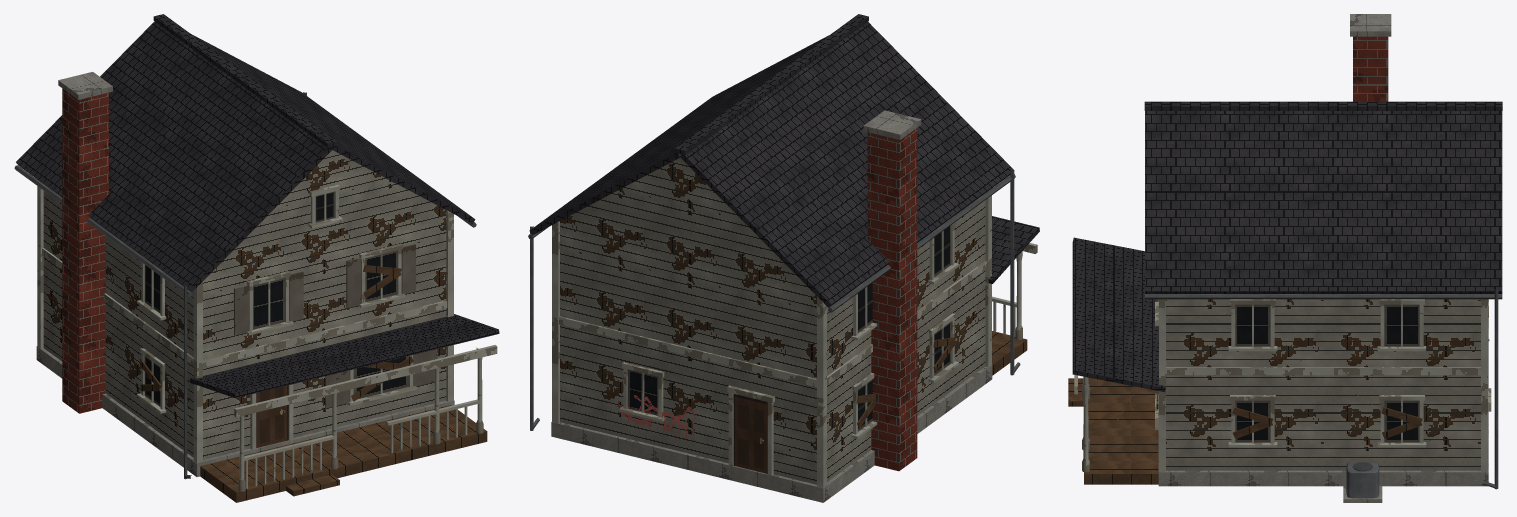
File: town_house_e.glb
3 views of the same model, side by side, from view 1: azimuth 30°, elevation 25°; view 2: azimuth 150°, elevation 25°; view 3: azimuth 270°, elevation 25° (orthographic). The views are drawn at different scales.
Visible parts, largest first — view 1: detail, shell-col; view 2: detail, shell-col; view 3: detail, shell-col.
Boxes of the visible parts, x1,y1,x2,y2 form: detail: (14, 14, 499, 491); shell-col: (36, 186, 487, 502); detail: (528, 14, 1039, 487); shell-col: (551, 196, 1027, 502); detail: (1072, 14, 1502, 502); shell-col: (1068, 299, 1488, 486).
Bounding box in the file's own units: 9.58 × 9.27 × 11.06.
Materials: 14 (14 with a texture image).
